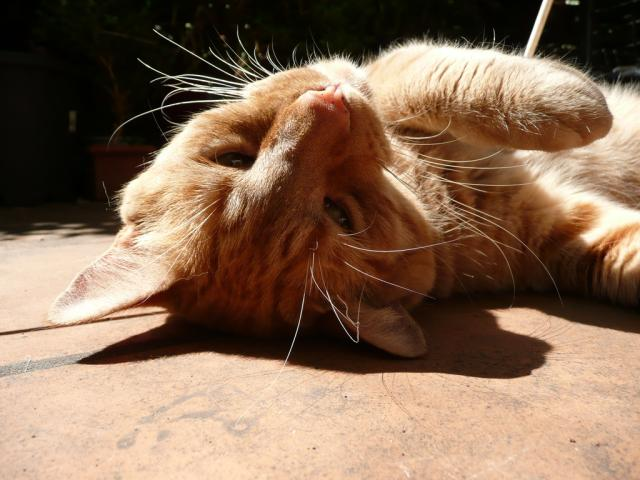Cat: (42, 19, 640, 427)
